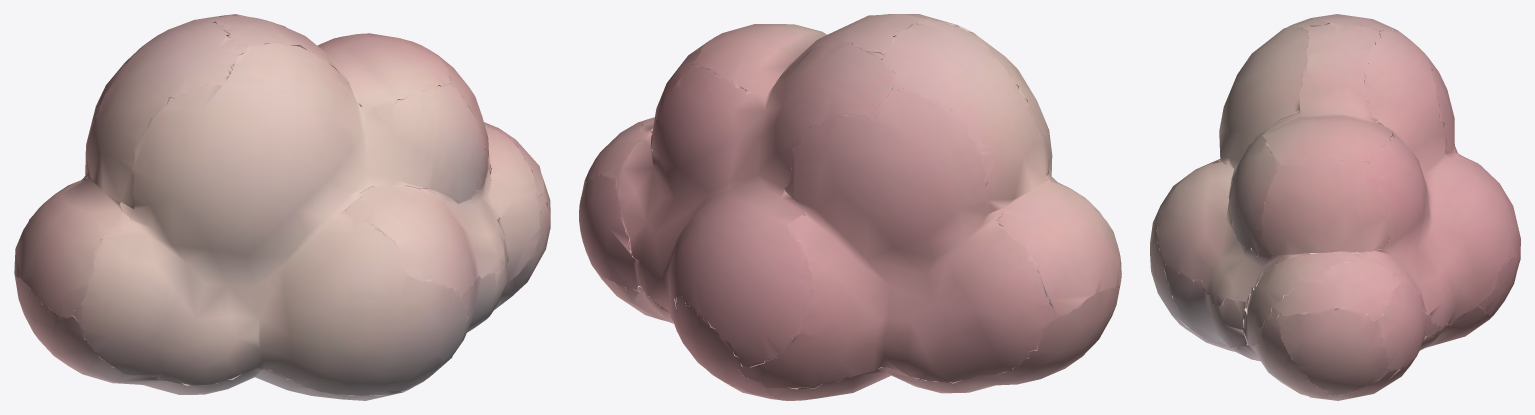
Rendered from cloud.glb.
3 views of the same model, side by side, from view 1: azimuth 30°, elevation 25°; view 2: azimuth 150°, elevation 25°; view 3: azimuth 270°, elevation 25° (orthographic). The views are drawn at different scales.
Parts seen in each view (by area): view 1: node_0; view 2: node_0; view 3: node_0.
Boxes of the visible parts, x1=… form: node_0: x1=14, y1=14, x2=550, y2=400; node_0: x1=579, y1=14, x2=1121, y2=400; node_0: x1=1150, y1=14, x2=1520, y2=400.
Size of the model in its own units: 2.4 by 1.55 by 1.82.
1 material, 1 textured.
